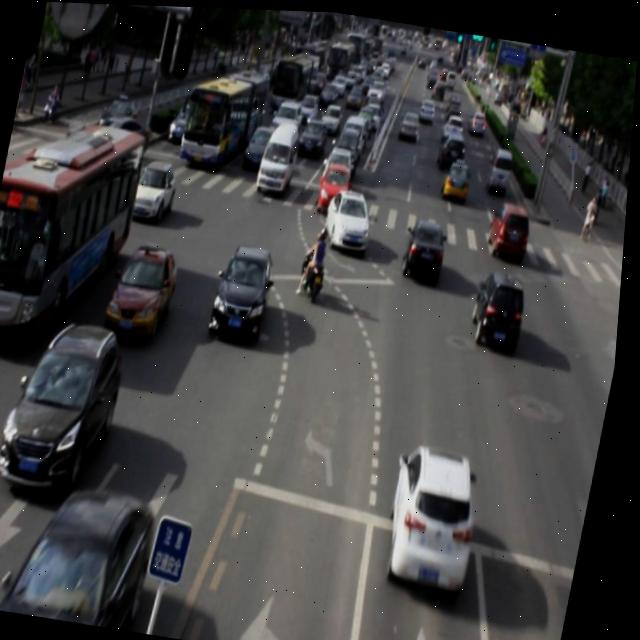car: (6, 476, 169, 631), (0, 311, 134, 497), (384, 433, 492, 585), (108, 235, 186, 342), (213, 238, 282, 338), (473, 262, 532, 341), (322, 178, 380, 248), (131, 157, 181, 222), (405, 213, 452, 276), (489, 194, 534, 255)
van: (0, 113, 148, 349)
